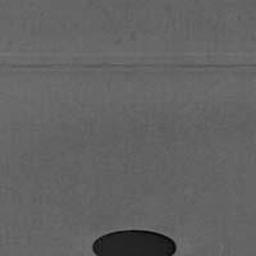Punching: (92, 229, 179, 256)
